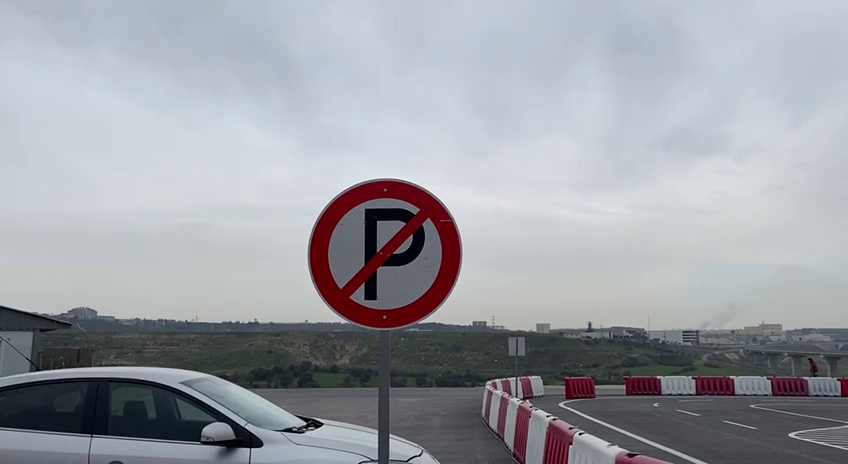noparking: (304, 172, 464, 335)
